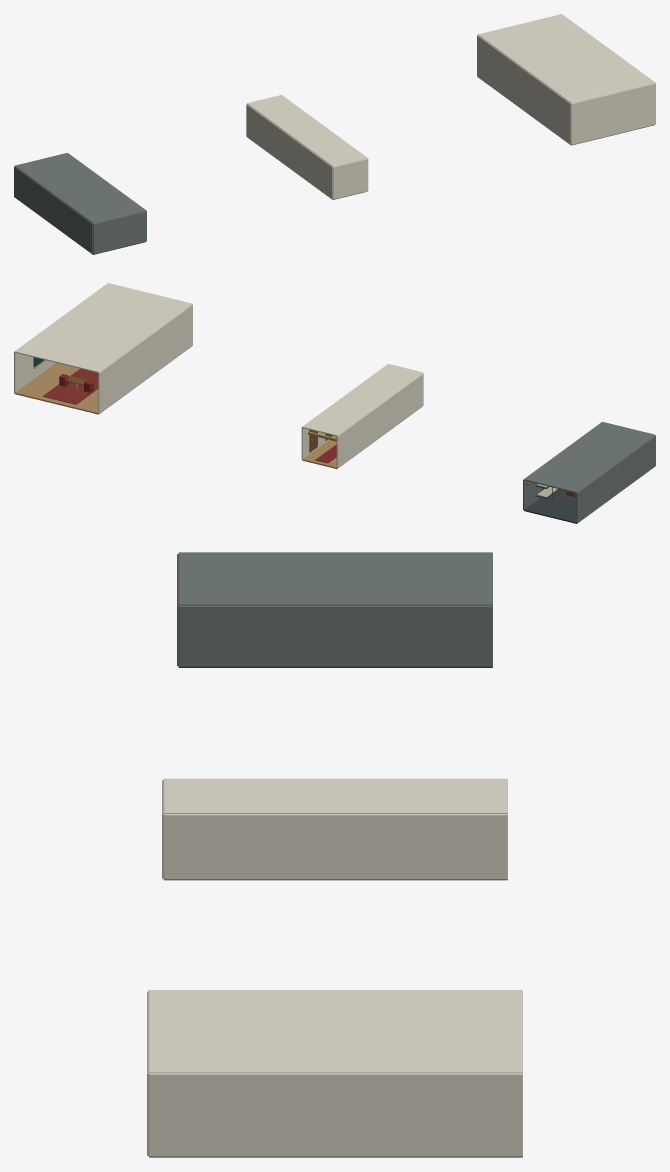
The model's file is nanan_interiors.glb.
The picture shows the model from 3 angles, top to bottom: view 1: azimuth 30°, elevation 25°; view 2: azimuth 150°, elevation 25°; view 3: azimuth 270°, elevation 25°; orthographic projection. The views are drawn at different scales.
Parts seen in each view (by area): view 1: First class ceiling, Third class ceiling, First class left wall, First class far bulkhead, Second class ceiling, Second class left wall, Third class left wall, Third class far bulkhead, Second class far bulkhead; view 2: First class ceiling, Third class ceiling, First class left wall, Second class ceiling, Second class left wall, Third class left wall, First class floor, Third class floor, First class carpet, First class right wall, Second class floor, Third class right wall (+1 smaller); view 3: First class ceiling, First class right wall, Second class right wall, Third class right wall, Third class ceiling, Second class ceiling.
Part boxes in pixels (x1,y1,x2,y2): First class ceiling: [478, 14, 655, 103]; Third class ceiling: [15, 153, 145, 223]; First class left wall: [477, 35, 571, 144]; First class far bulkhead: [571, 83, 655, 144]; Second class ceiling: [247, 95, 367, 166]; Second class left wall: [246, 104, 332, 199]; Third class left wall: [14, 166, 92, 254]; Third class far bulkhead: [93, 211, 146, 254]; Second class far bulkhead: [332, 158, 367, 199]; First class ceiling: [14, 283, 191, 372]; Third class ceiling: [524, 422, 654, 492]; First class left wall: [98, 304, 192, 413]; Second class ceiling: [302, 364, 422, 436]; Second class left wall: [336, 373, 423, 468]; Third class left wall: [576, 435, 655, 523]; First class floor: [14, 347, 190, 414]; Third class floor: [524, 467, 653, 523]; First class carpet: [42, 368, 98, 404]; First class right wall: [14, 352, 55, 393]; Second class floor: [302, 409, 418, 468]; Third class right wall: [523, 479, 544, 509]; First class ceiling: [148, 990, 522, 1073]; First class right wall: [148, 1073, 522, 1156]; Second class right wall: [163, 814, 507, 879]; Third class right wall: [178, 605, 492, 666]; Third class ceiling: [178, 552, 492, 605]; Second class ceiling: [163, 778, 507, 813].
Size of the model in its own units: 85.82 by 6.33 by 25.11.
